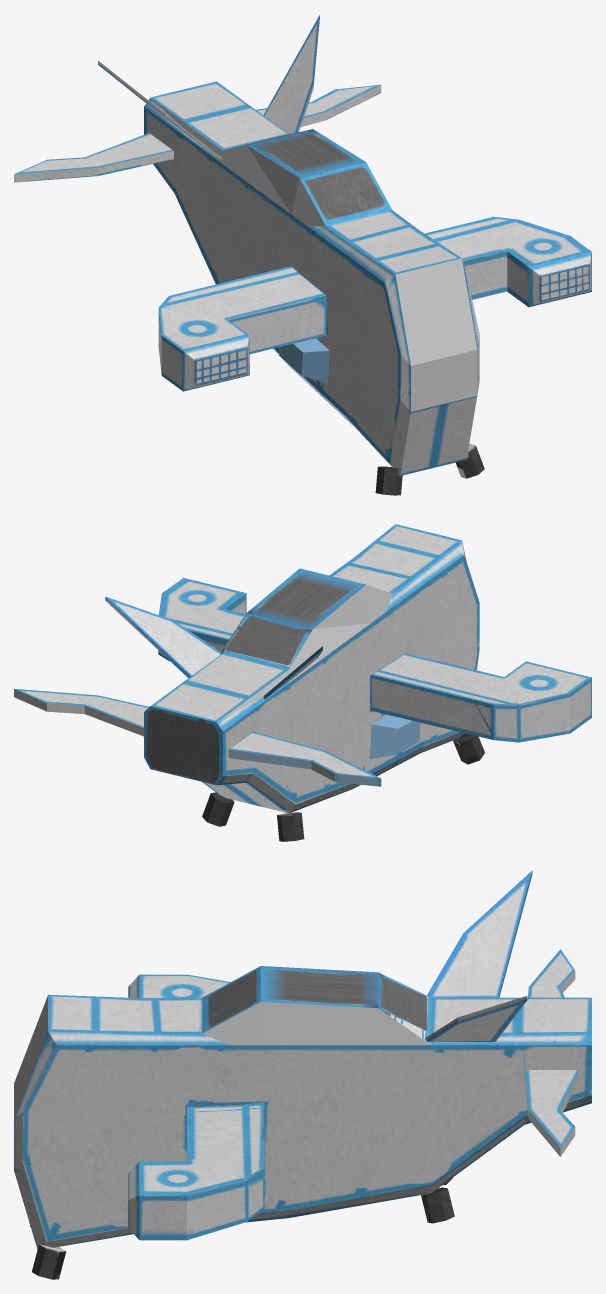
The model's file is EnemyDrone.fbx.
3 views of the same model, one above another, from view 1: azimuth 30°, elevation 25°; view 2: azimuth 150°, elevation 25°; view 3: azimuth 270°, elevation 25° (orthographic). The views are drawn at different scales.
Parts seen in each view (by area): view 1: EnemyDrone_LOD0; view 2: EnemyDrone_LOD0; view 3: EnemyDrone_LOD0.
Part boxes in pixels (x1,y1,x2,y2): EnemyDrone_LOD0: (14,15,591,495); EnemyDrone_LOD0: (14,524,591,841); EnemyDrone_LOD0: (14,870,591,1279).
Size of what is drawn, in the model's own units: 482 by 331 by 532.
Materials: 2 (1 with a texture image).
